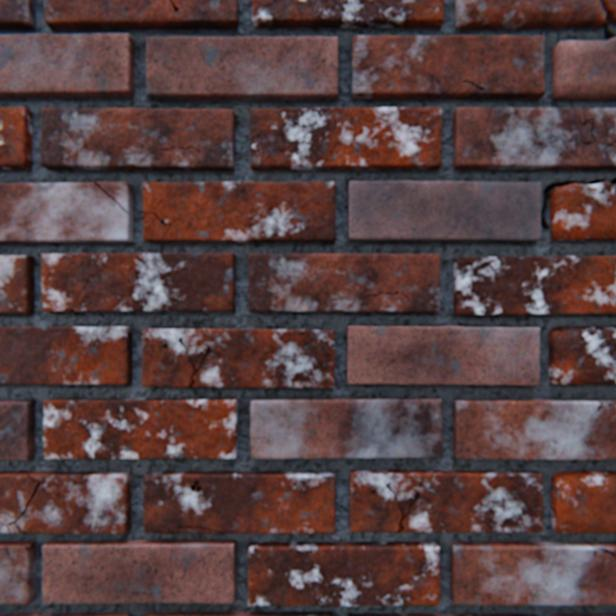brick: (43, 538, 236, 602), (248, 541, 439, 605), (352, 36, 543, 100), (147, 38, 337, 101), (42, 109, 235, 171), (349, 469, 541, 531), (250, 108, 440, 170), (348, 181, 540, 242), (144, 471, 335, 532), (44, 398, 238, 458), (251, 397, 441, 458), (144, 182, 335, 242), (347, 326, 538, 385), (143, 328, 334, 387), (42, 253, 235, 311), (249, 254, 439, 312), (450, 540, 615, 604), (452, 108, 615, 170), (452, 399, 615, 459), (453, 256, 615, 315), (0, 35, 135, 99), (0, 470, 132, 532), (0, 183, 133, 243), (0, 326, 133, 384), (45, 0, 238, 31), (252, 0, 443, 29), (0, 540, 37, 603), (0, 400, 36, 459), (0, 108, 33, 169), (0, 256, 35, 313), (0, 0, 36, 31), (143, 610, 331, 615), (348, 612, 535, 615), (0, 611, 130, 615), (10, 523, 22, 532), (0, 523, 10, 532)
broken_brick: (454, 0, 604, 30), (550, 470, 615, 532), (551, 38, 615, 100), (547, 326, 615, 384), (549, 182, 615, 240), (550, 612, 615, 615), (603, 0, 615, 15), (609, 20, 615, 25), (550, 507, 553, 514)
crack: (540, 181, 606, 230), (0, 474, 45, 532), (386, 481, 418, 531), (95, 183, 129, 214), (188, 345, 211, 386), (597, 0, 615, 40), (581, 119, 602, 145), (143, 211, 177, 227), (77, 274, 91, 300), (178, 525, 223, 532), (179, 336, 190, 357), (461, 81, 484, 90), (363, 292, 400, 297), (171, 147, 200, 153), (600, 546, 615, 555), (192, 480, 202, 491), (170, 0, 179, 12), (155, 199, 163, 209), (595, 401, 601, 411), (550, 505, 555, 516), (608, 177, 615, 184), (604, 401, 615, 405), (6, 545, 10, 556), (156, 149, 169, 152)
